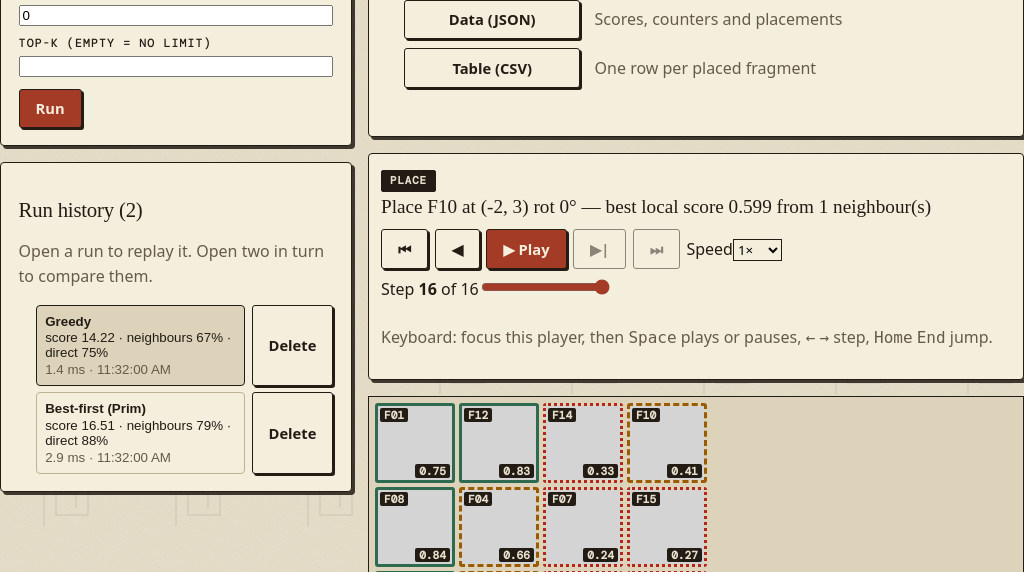
Test case: ReconstructPage › deletes a run and clears the selection when it was open
(page scrolled)
Click the button with aria-label "delete greedy run": click(292, 346) 252,305 -> 333,386
(page scrolled)
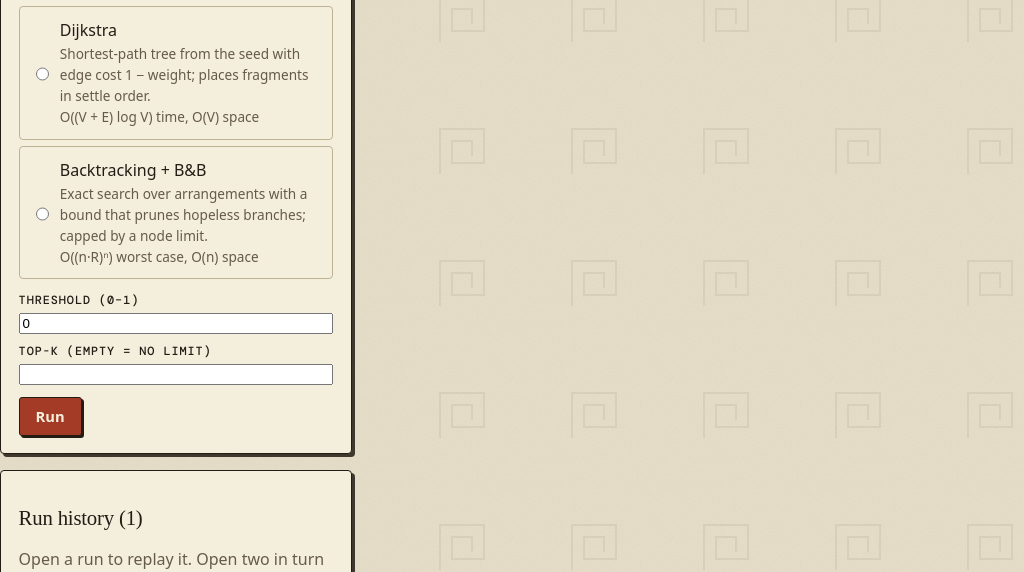
Now the heading "Run history (1)" is shown, box 19,506 -> 143,529
